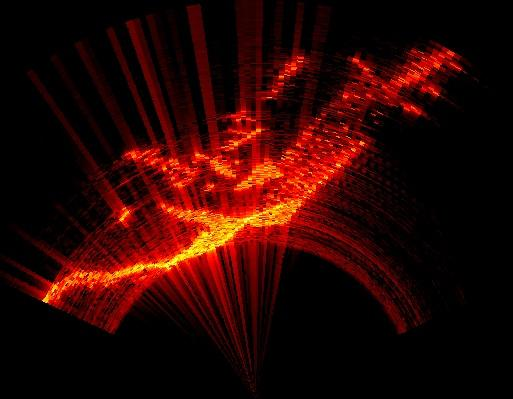shipwreck: (43, 52, 448, 304)
